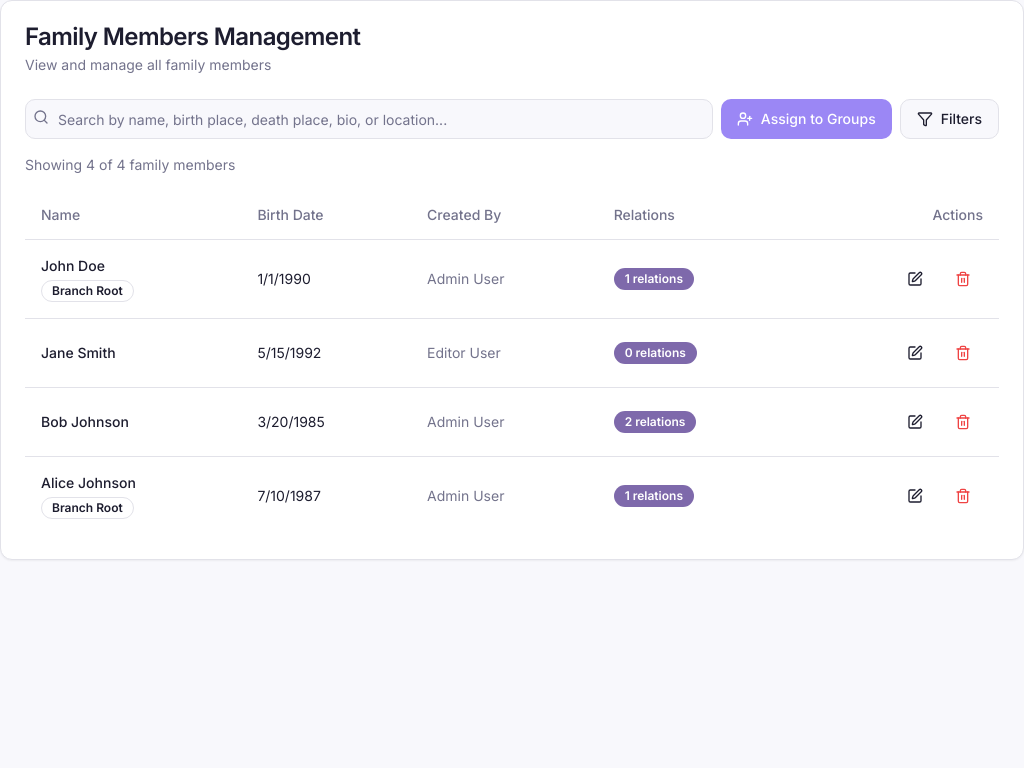
Test: FamilyMembersTab › Search Functionality › should filter members by last name
Replace the text in the field with placeholder "Search by name, birth place" with "Smith": (369, 119) [25,99,713,139]
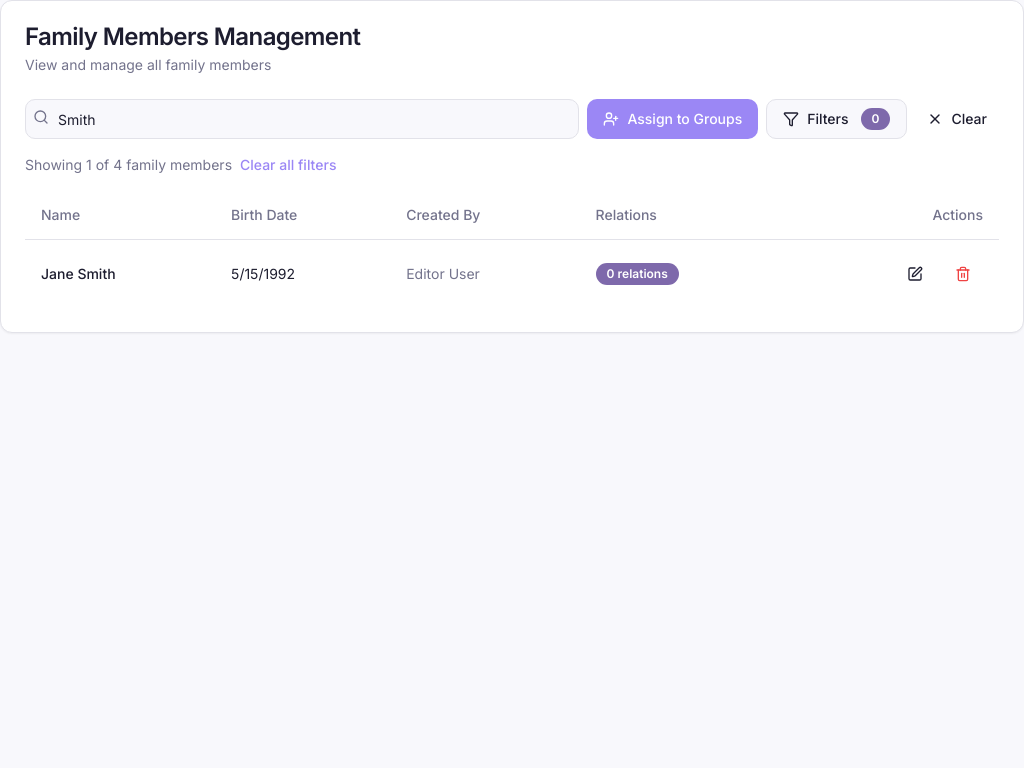
Expected: the text "Jane Smith" is shown, [41,264,116,282]
Expected: the text "John Doe" is gone
Expected: the text "Showing 1 of 4 family members Clear all filters" is shown, [25,155,336,175]
